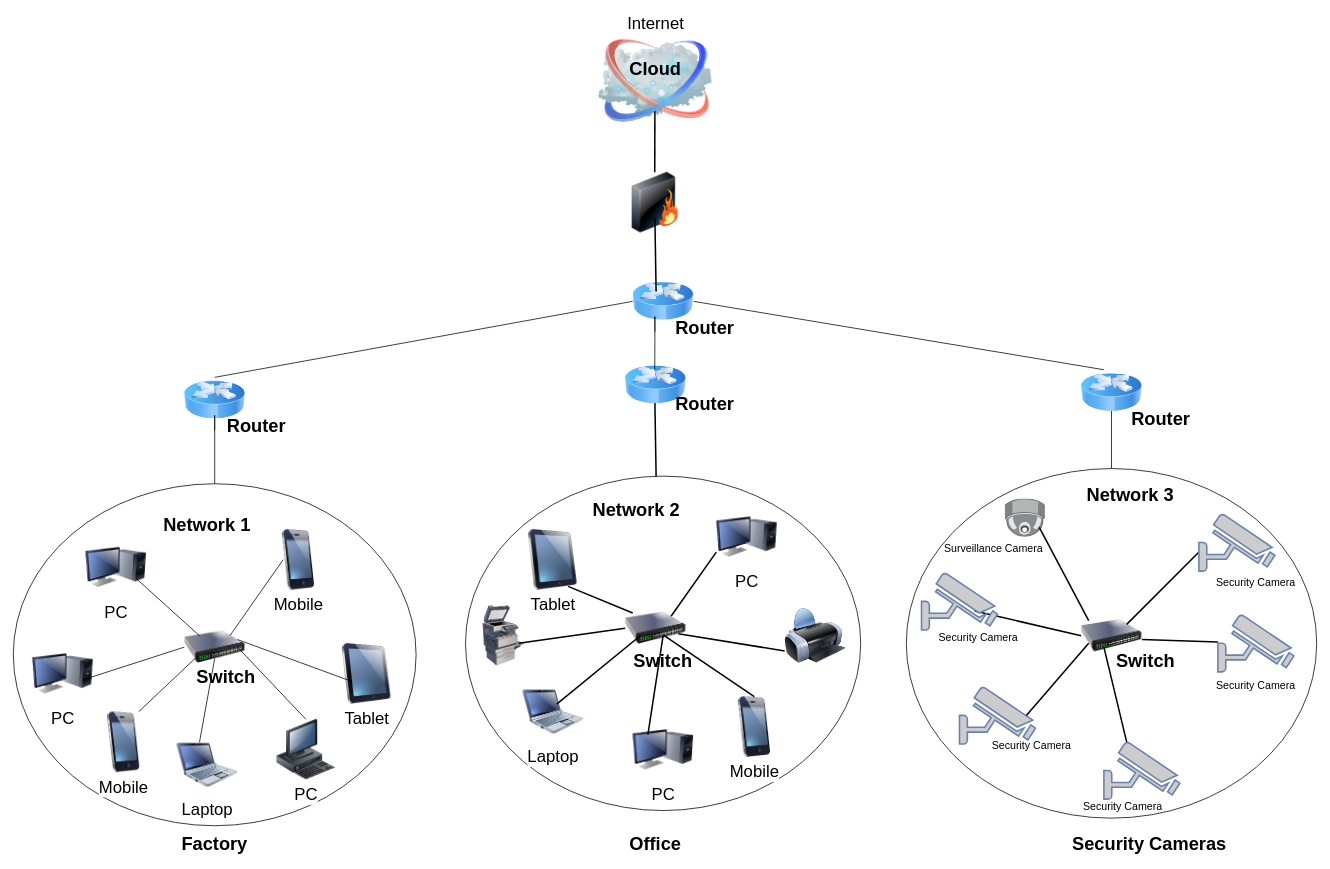
The diagram is 1330 pixels wide and 869 high, and some of its shapes have lost their labels. The shapes that lost their labels are listed below. From the top down, each one's centre as x and y in pixels, then its label:
(655,202): Firewall
(814,635): Printer
